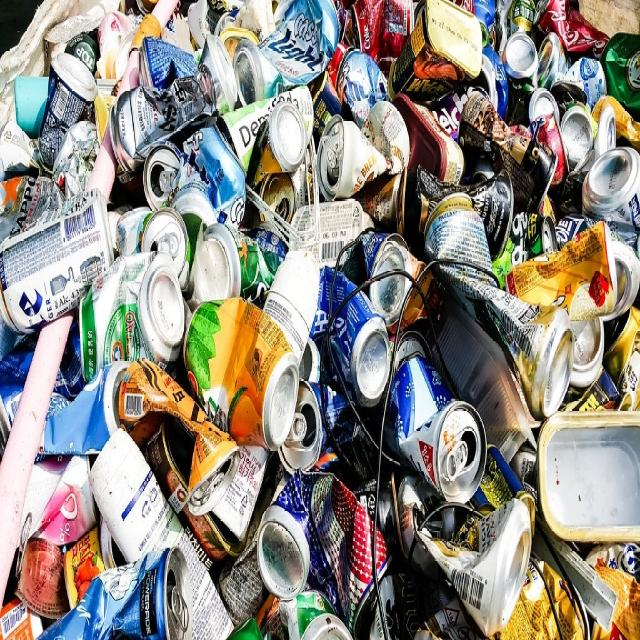can: (5, 4, 635, 614)
